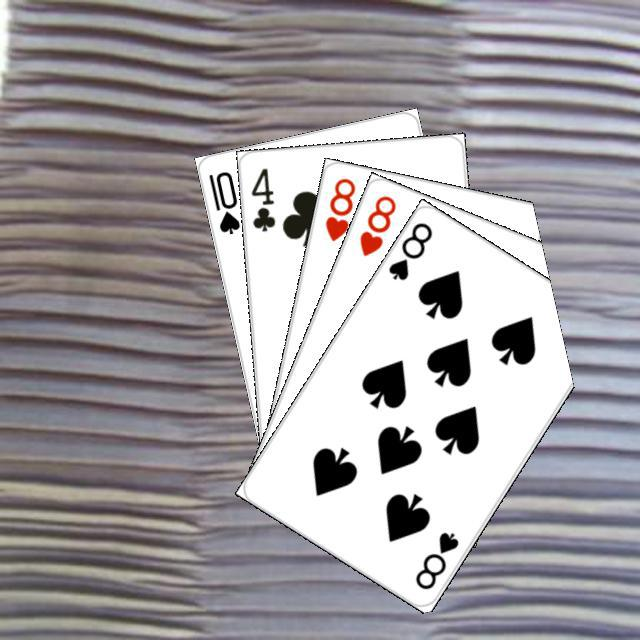10s: (203, 166, 242, 236)
4c: (246, 163, 277, 234)
8h: (354, 190, 398, 258), (320, 173, 357, 243)
8s: (383, 217, 434, 282), (410, 527, 461, 592)
